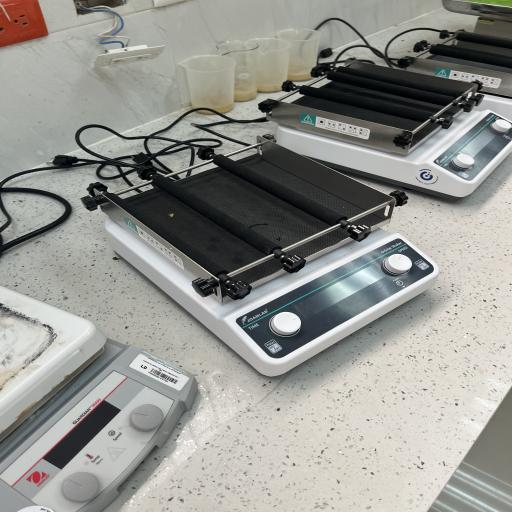Agitador_Orbital_DLAB: (68, 129, 466, 388)
